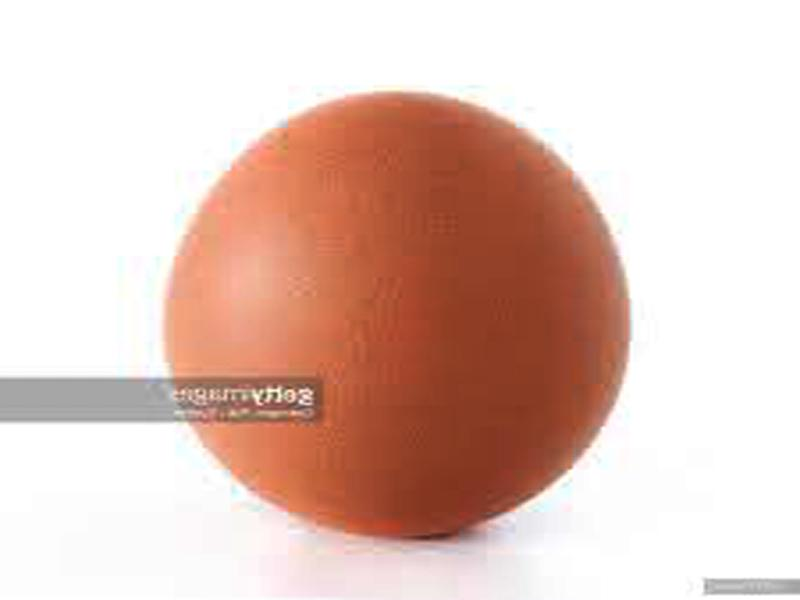Eggs: (163, 91, 628, 528)
